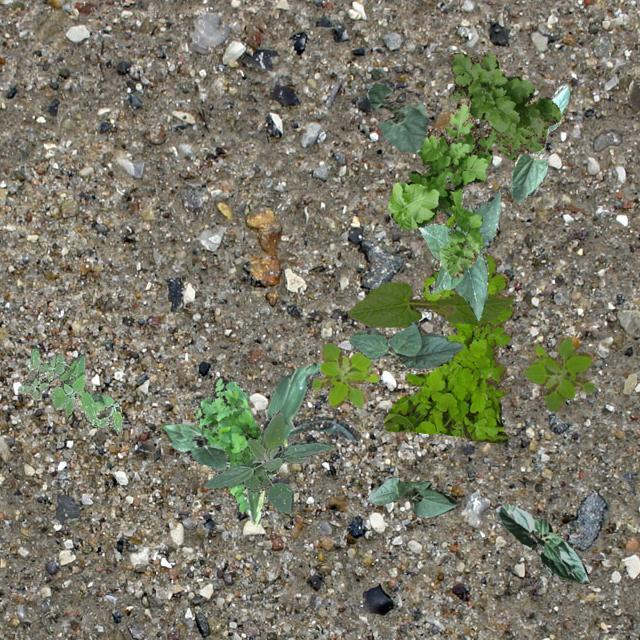crop: (242, 362, 360, 526), (418, 188, 499, 320), (493, 503, 588, 582), (347, 282, 512, 326), (509, 84, 568, 200), (348, 320, 462, 368), (366, 78, 428, 152), (364, 476, 456, 518), (160, 422, 228, 472)
weed: (382, 214, 514, 442), (388, 96, 536, 276), (202, 410, 332, 512), (446, 51, 560, 152), (194, 374, 264, 514), (17, 348, 122, 433), (522, 334, 594, 410), (310, 342, 378, 406)
